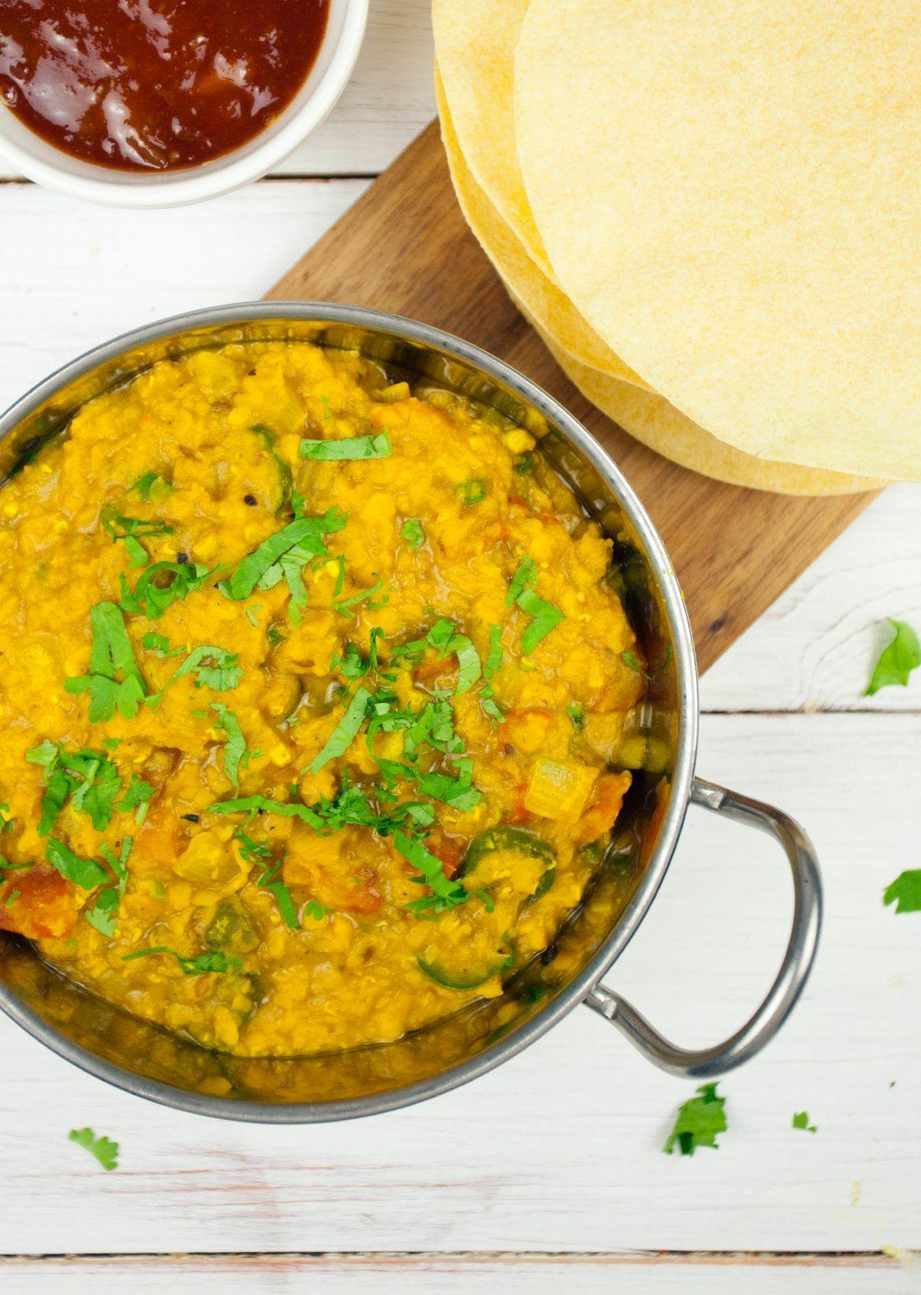Dal: (0, 342, 641, 1111)
